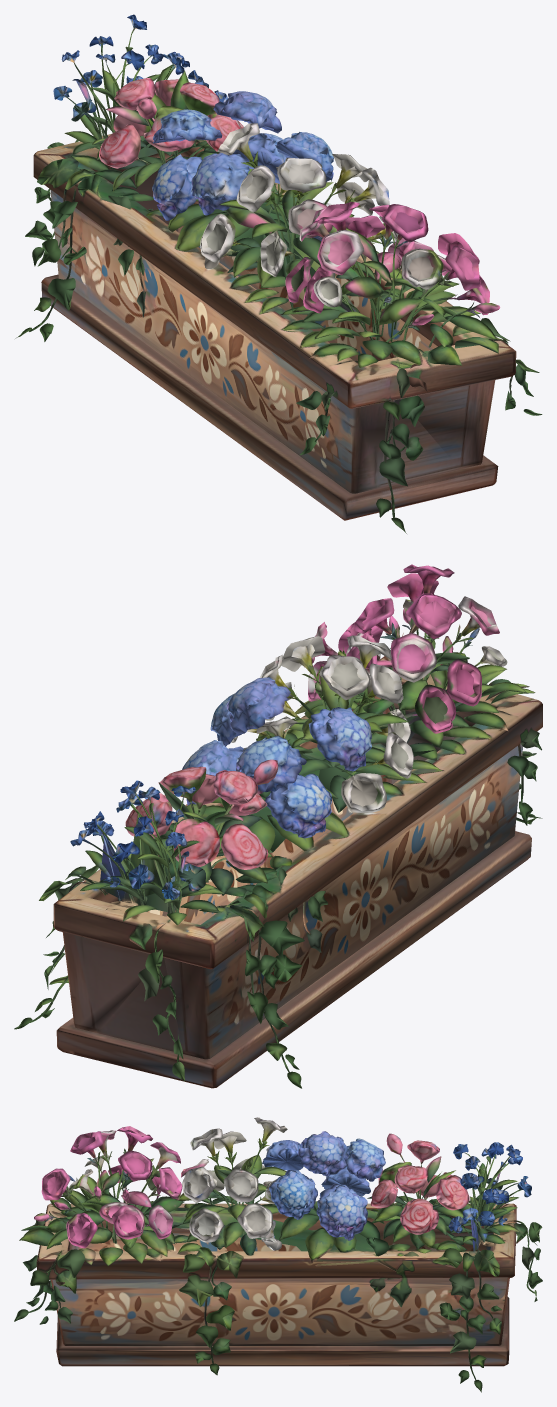
The picture shows the model from 3 angles, top to bottom: view 1: azimuth 30°, elevation 25°; view 2: azimuth 150°, elevation 25°; view 3: azimuth 270°, elevation 25°; orthographic projection. The views are drawn at different scales.
Visible parts, largest first — view 1: tripo_node_e83c0df5; view 2: tripo_node_e83c0df5; view 3: tripo_node_e83c0df5.
Boxes of the visible parts, <box> form: tripo_node_e83c0df5: <box>15,14,542,533</box>; tripo_node_e83c0df5: <box>14,564,542,1088</box>; tripo_node_e83c0df5: <box>14,1117,542,1392</box>.
Size of the model in its own units: 0.4292 by 0.4468 by 0.9995.
Materials: 1 (1 with a texture image).
